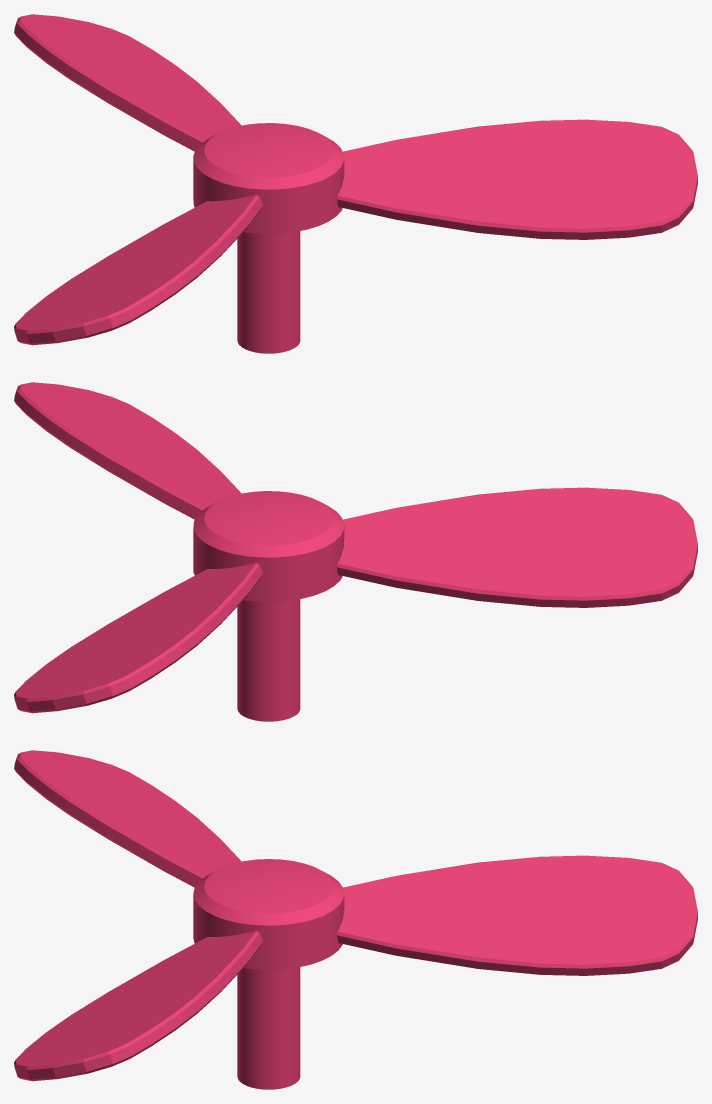
Rendered from canhquat.fbx.
3 views of the same model, one above another, from view 1: azimuth 30°, elevation 25°; view 2: azimuth 150°, elevation 25°; view 3: azimuth 270°, elevation 25° (orthographic).
Parts seen in each view (by area): view 1: canhquat; view 2: canhquat; view 3: canhquat.
Boxes of the visible parts, <box> form: canhquat: <box>14,14,697,353</box>; canhquat: <box>14,382,697,721</box>; canhquat: <box>14,750,697,1089</box>.
Bounding box in the file's own units: 189 × 53.39 × 168.
